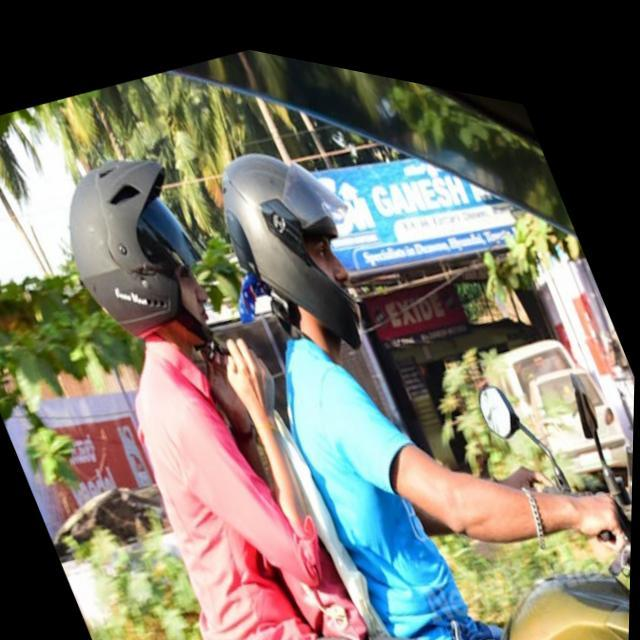Helmet: (212, 143, 376, 355), (60, 149, 222, 355)
